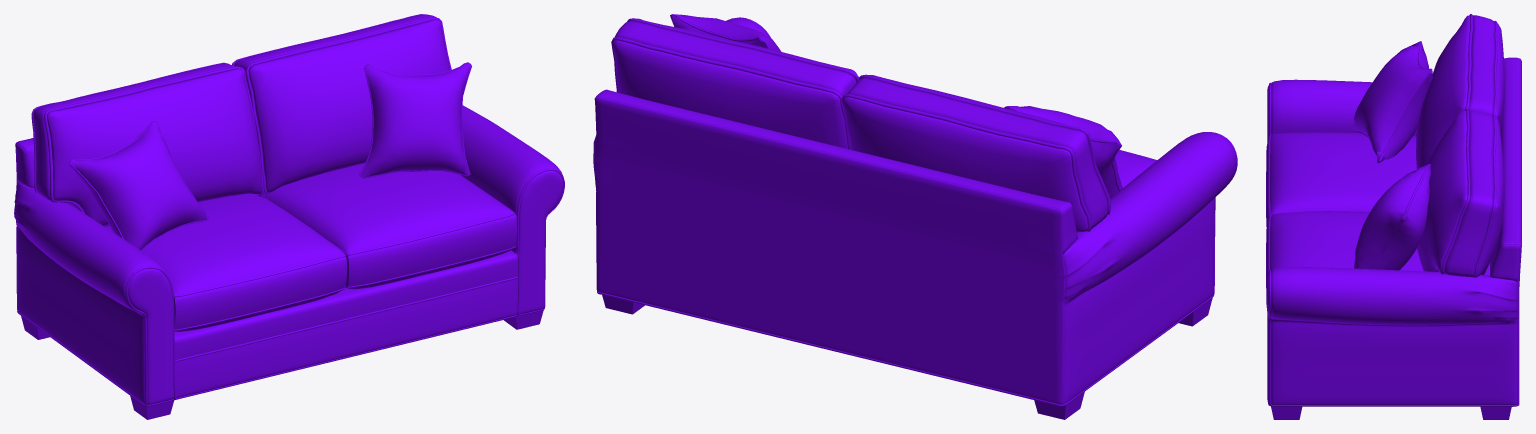
Rendered from LP_3D_LR_LUV_HMRI_3691_Bellingham_1023726P.glb.
3 renders of one model, left to right at view 1: azimuth 30°, elevation 25°; view 2: azimuth 150°, elevation 25°; view 3: azimuth 270°, elevation 25°, orthographic. The views are drawn at different scales.
Visible parts, largest first — view 1: LP_1023726P_Bottom, LP_1023726P_BackCushion, LP_1023726P_Seating, LP_1023726P_Pillow_R, LP_1023726P_Pillow_L, LP_1023726P_Feet; view 2: LP_1023726P_Bottom, LP_1023726P_BackCushion, LP_1023726P_Pillow_L, LP_1023726P_Pillow_R, LP_1023726P_Feet, LP_1023726P_Seating; view 3: LP_1023726P_Bottom, LP_1023726P_BackCushion, LP_1023726P_Seating, LP_1023726P_Pillow_L, LP_1023726P_Pillow_R, LP_1023726P_Feet.
Boxes of the visible parts, x1,y1,x2,y2 form: LP_1023726P_Bottom: (14,105,564,406); LP_1023726P_BackCushion: (31,14,451,226); LP_1023726P_Seating: (105,163,516,331); LP_1023726P_Pillow_R: (359,62,471,178); LP_1023726P_Pillow_L: (69,120,209,250); LP_1023726P_Feet: (21,310,543,419); LP_1023726P_Bottom: (593,17,1237,406); LP_1023726P_BackCushion: (611,18,1110,232); LP_1023726P_Pillow_L: (1004,106,1122,197); LP_1023726P_Pillow_R: (670,14,781,51); LP_1023726P_Feet: (602,295,1212,419); LP_1023726P_Seating: (1115,150,1156,187); LP_1023726P_Bottom: (1267,57,1521,406); LP_1023726P_BackCushion: (1416,14,1504,277); LP_1023726P_Seating: (1266,132,1489,310); LP_1023726P_Pillow_L: (1353,41,1432,163); LP_1023726P_Pillow_R: (1354,164,1431,270); LP_1023726P_Feet: (1271,406,1511,419).
Size of the model in its own units: 73.52 by 36.76 by 37.97.
